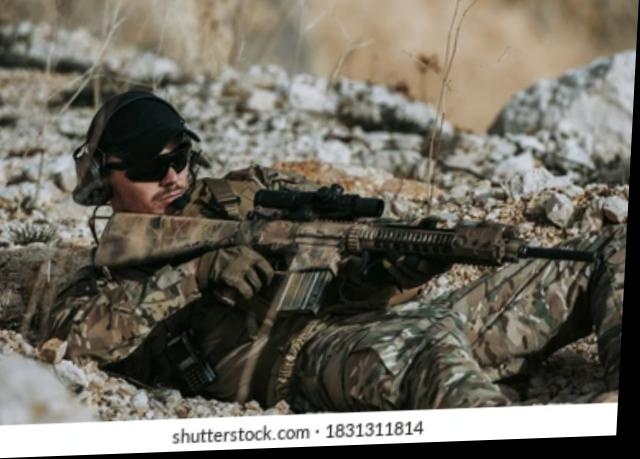other: (62, 66, 626, 411)
